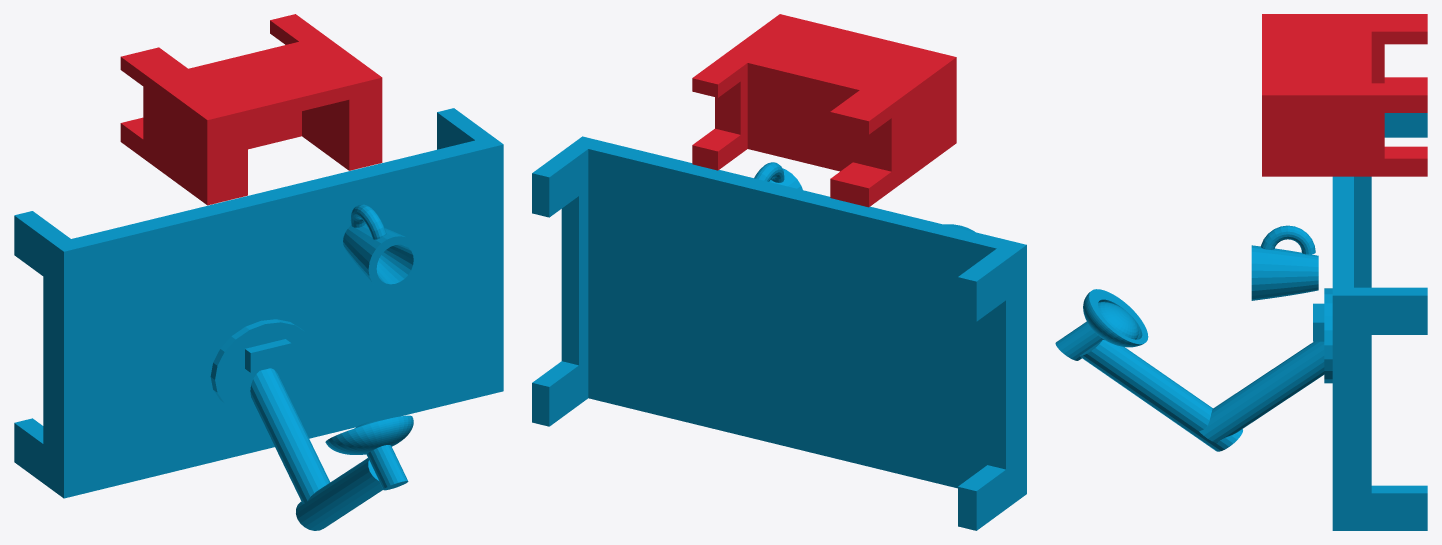
Rendered from tinker.obj.
The picture shows the model from 3 angles, left to right: view 1: azimuth 30°, elevation 25°; view 2: azimuth 150°, elevation 25°; view 3: azimuth 270°, elevation 25°; orthographic projection. The views are drawn at different scales.
Visible parts, largest first — view 1: group_0_40919, group_0_15277357; view 2: group_0_40919, group_0_15277357; view 3: group_0_40919, group_0_15277357.
Part boxes in pixels (x1,y1,x2,y2): group_0_40919: [14, 108, 503, 530]; group_0_15277357: [120, 14, 382, 205]; group_0_40919: [532, 136, 1026, 530]; group_0_15277357: [692, 14, 956, 207]; group_0_40919: [1055, 113, 1427, 530]; group_0_15277357: [1262, 14, 1427, 176].
Size of the model in its own units: 173 by 156 by 133.
